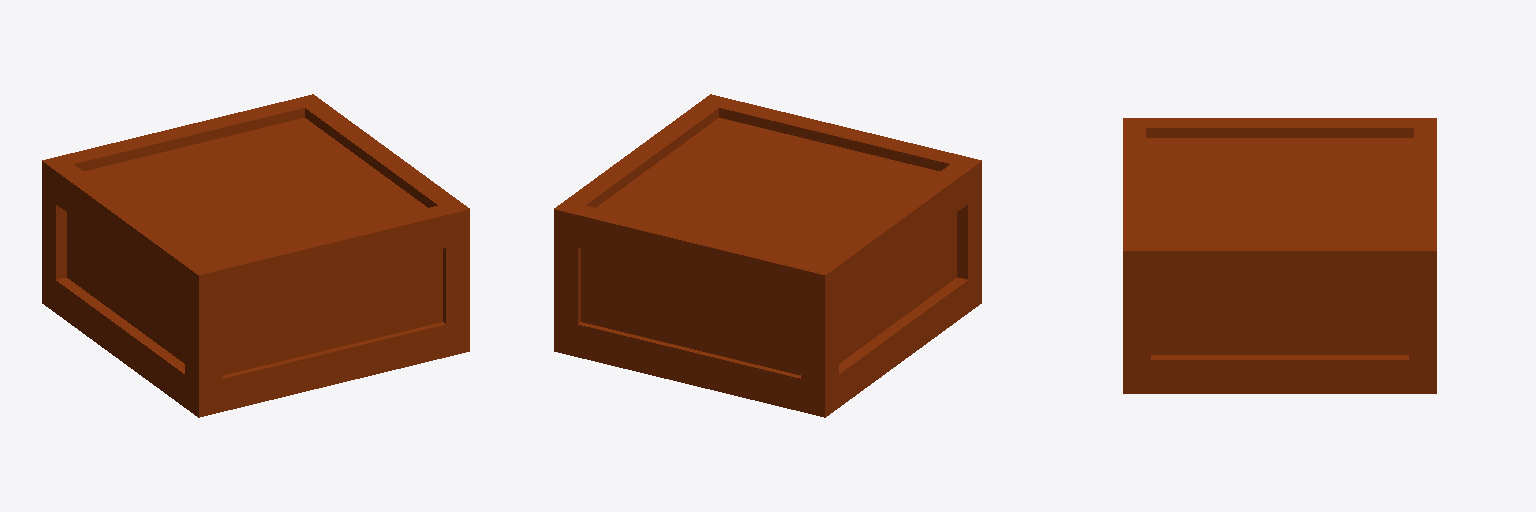
The model's file is alimentos.obj.
3 renders of one model, left to right at view 1: azimuth 30°, elevation 25°; view 2: azimuth 150°, elevation 25°; view 3: azimuth 270°, elevation 25°, orthographic.
Parts seen in each view (by area): view 1: Cube; view 2: Cube; view 3: Cube.
Boxes of the visible parts, x1,y1,x2,y2 form: Cube: [42, 94, 469, 417]; Cube: [554, 94, 981, 417]; Cube: [1123, 118, 1436, 393].
Size of the model in its own units: 2 by 1 by 2.